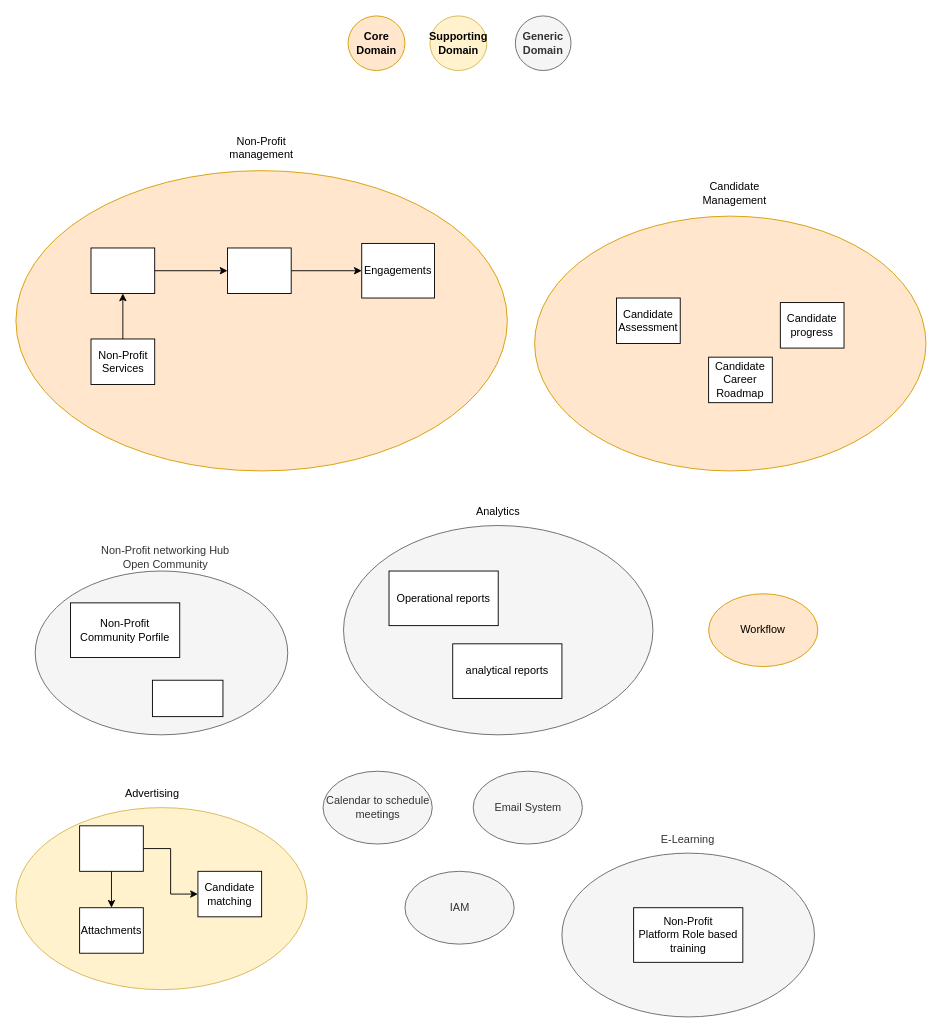
The diagram is 942 pixels wide and 1033 high, and some of its shapes have lost their labels. The centre of each missing label's shape, as x and y in pixels:
"Community Leader assignation" belongs at [259,270].
"Community meetings" belongs at [187,698].
"Non-Profit Offering" belongs at [111,848].
"Service Assessment" belongs at [122,270].
